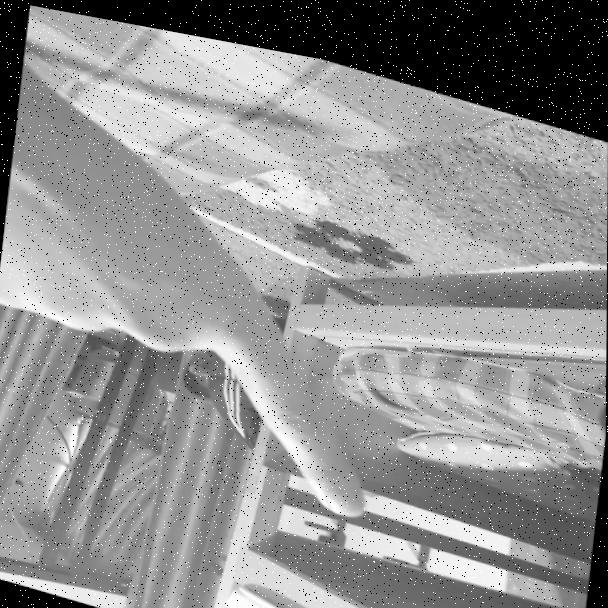one: (0, 65, 415, 514)
